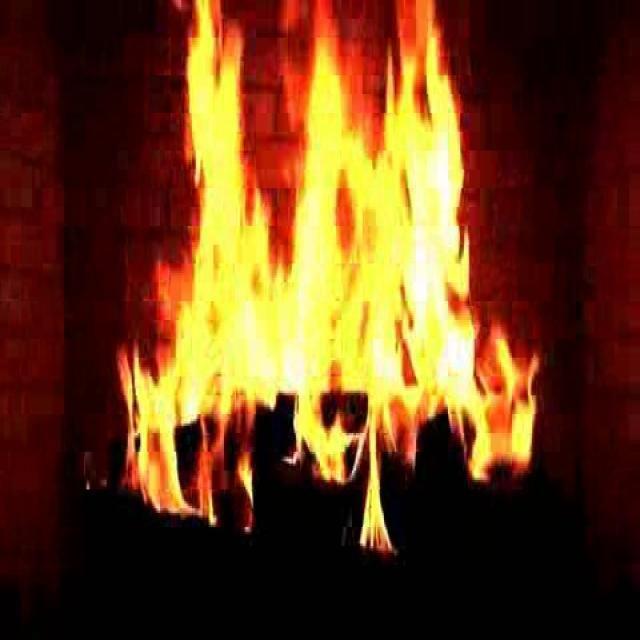Fire: (109, 0, 637, 553)
